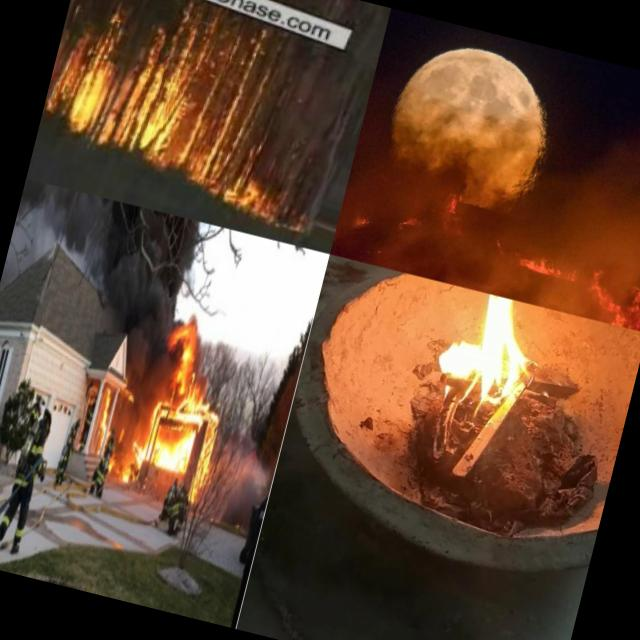fire: (32, 17, 314, 224), (421, 283, 556, 418), (132, 369, 228, 507), (500, 240, 584, 294), (583, 262, 640, 332), (157, 318, 206, 376), (91, 378, 122, 454), (340, 195, 380, 234), (116, 436, 145, 487), (396, 203, 427, 247), (104, 421, 128, 477), (442, 183, 472, 225)
smoke: (56, 192, 204, 320), (5, 178, 80, 276), (117, 310, 169, 384), (116, 378, 158, 440)
